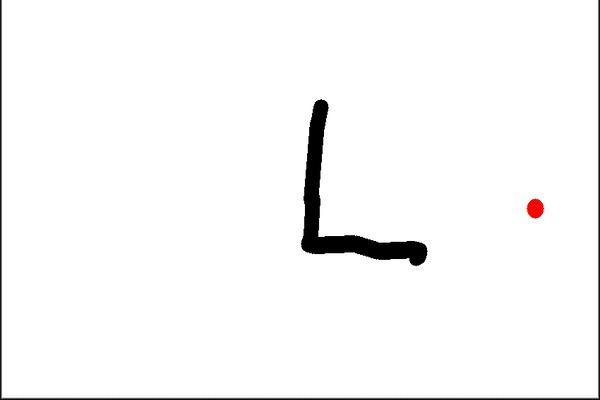L: (293, 90, 434, 275)
